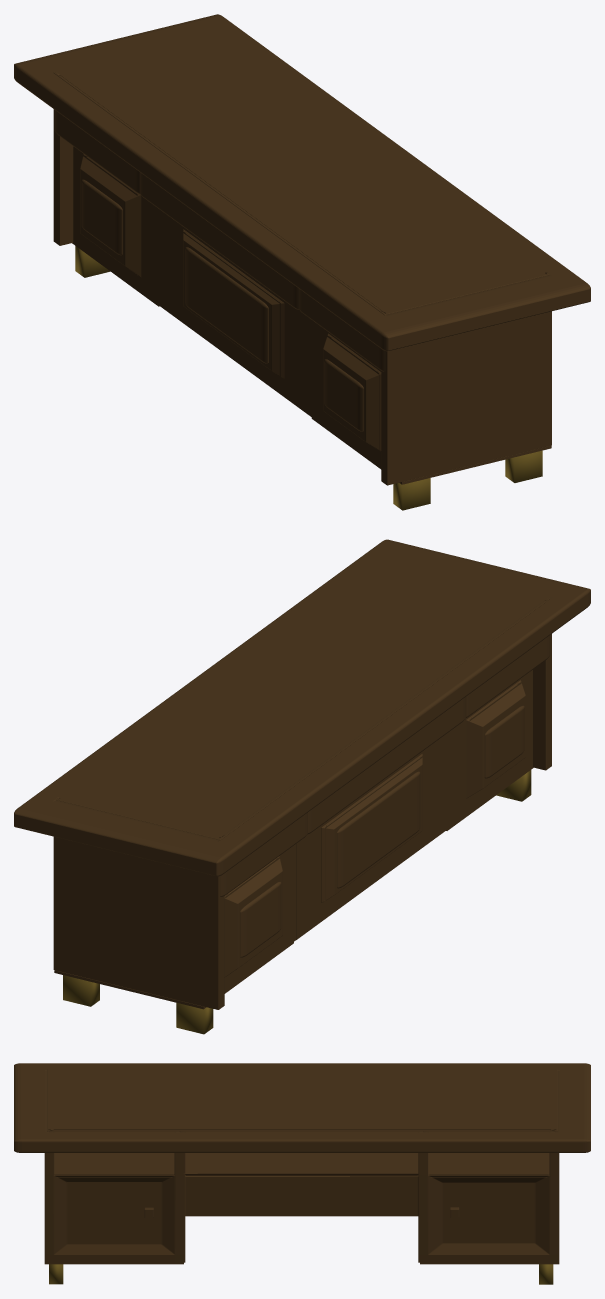
File: table.fbx
3 renders of one model, top to bottom at view 1: azimuth 30°, elevation 25°; view 2: azimuth 150°, elevation 25°; view 3: azimuth 270°, elevation 25°, orthographic. The views are drawn at different scales.
Parts seen in each view (by area): view 1: Plane, Cube.002, Cube.003; view 2: Plane, Cube.001, Cube; view 3: Plane, Cube, Cube.003.
Part boxes in pixels (x1=…): Plane: x1=14, y1=14, x2=590, y2=485; Cube.002: x1=393, y1=478, x2=430, y2=510; Cube.003: x1=505, y1=450, x2=542, y2=482; Plane: x1=14, y1=539, x2=590, y2=1009; Cube.001: x1=176, y1=1002, x2=213, y2=1034; Cube: x1=63, y1=975, x2=99, y2=1006; Plane: x1=14, y1=1063, x2=590, y2=1264; Cube: x1=539, y1=1264, x2=553, y2=1284; Cube.003: x1=49, y1=1264, x2=63, y2=1284.
Bounding box in the file's own units: 315 × 296 × 986.
